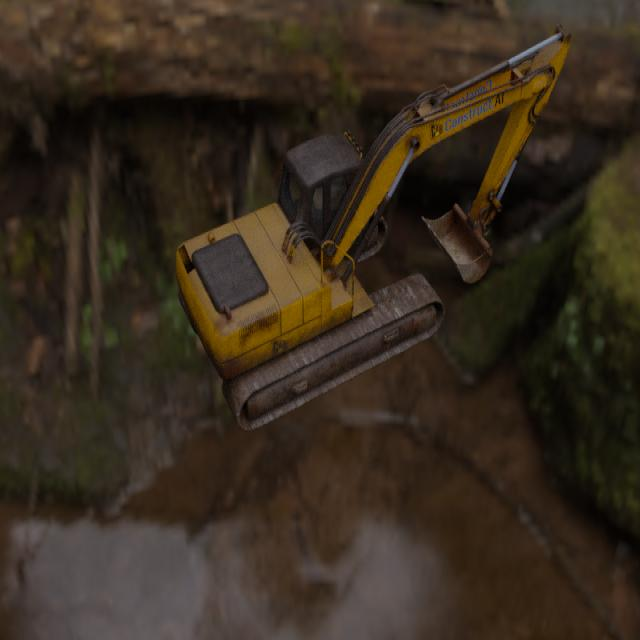excavator: (175, 23, 572, 432)
